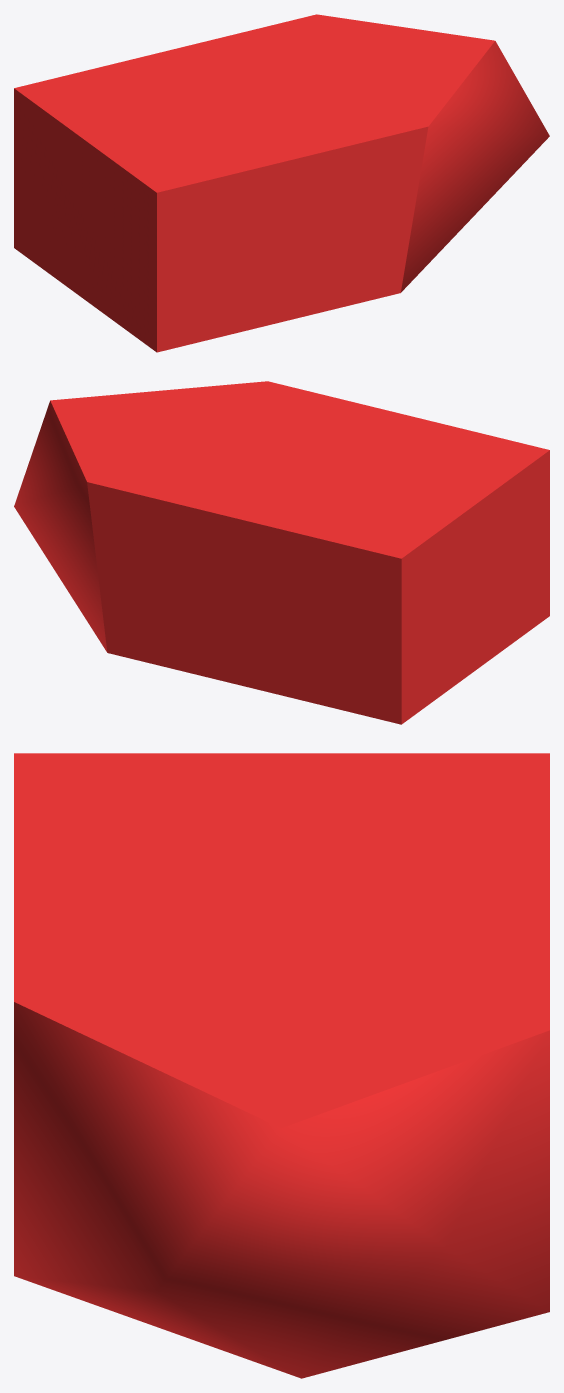
The model's file is DBK_Brick_Prop_Alone_C.fbx.
3 renders of one model, top to bottom at view 1: azimuth 30°, elevation 25°; view 2: azimuth 150°, elevation 25°; view 3: azimuth 270°, elevation 25°, orthographic. The views are drawn at different scales.
Visible parts, largest first — view 1: DBK_Brick_Prop_Alone_C; view 2: DBK_Brick_Prop_Alone_C; view 3: DBK_Brick_Prop_Alone_C.
Part boxes in pixels (bbox=[...]): DBK_Brick_Prop_Alone_C: bbox=[14, 14, 549, 352]; DBK_Brick_Prop_Alone_C: bbox=[14, 381, 549, 724]; DBK_Brick_Prop_Alone_C: bbox=[14, 753, 549, 1378].
Bounding box in the file's own units: 17.42 × 6.17 × 10.
